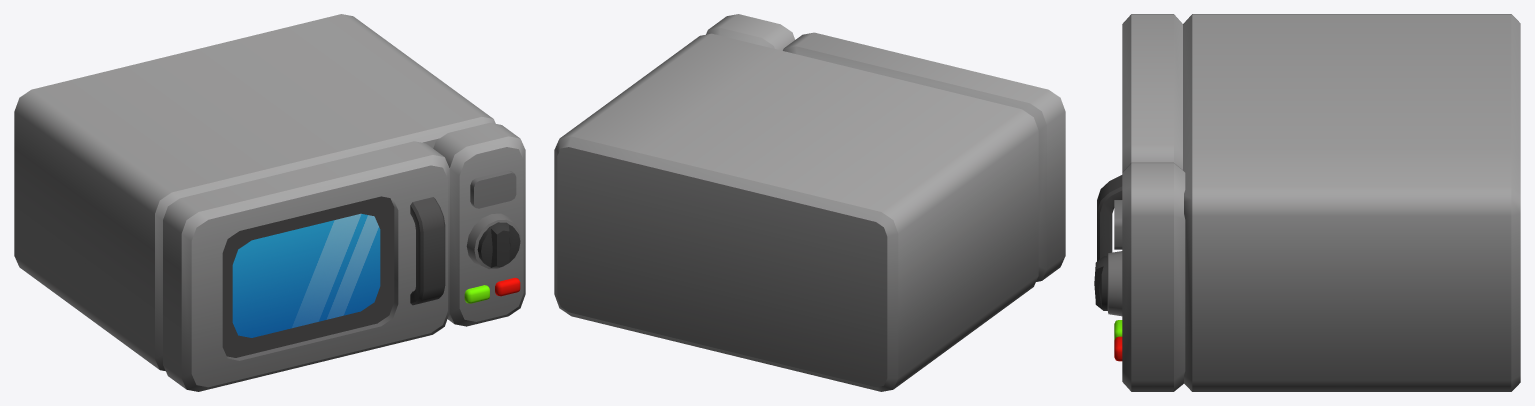
The model's file is Oven_01.fbx.
3 views of the same model, side by side, from view 1: azimuth 30°, elevation 25°; view 2: azimuth 150°, elevation 25°; view 3: azimuth 270°, elevation 25° (orthographic). The views are drawn at different scales.
Parts seen in each view (by area): view 1: Oven_01, Oven_01_Door; view 2: Oven_01, Oven_01_Door; view 3: Oven_01, Oven_01_Door.
Boxes of the visible parts, left/top/right/bottom form: Oven_01: left=14, top=14, right=525, bottom=370; Oven_01_Door: left=163, top=141, right=449, bottom=391; Oven_01: left=554, top=14, right=1038, bottom=391; Oven_01_Door: left=783, top=32, right=1065, bottom=281; Oven_01: left=1094, top=14, right=1520, bottom=391; Oven_01_Door: left=1097, top=14, right=1182, bottom=261.
Bounding box in the file's own units: 100 × 50 × 94.48.
